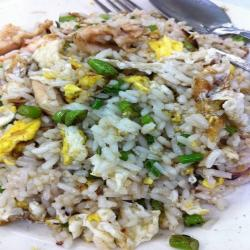rice: (1, 17, 250, 218)
